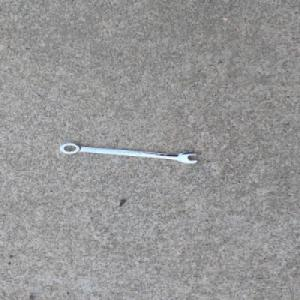Wrench: (56, 142, 199, 164)
